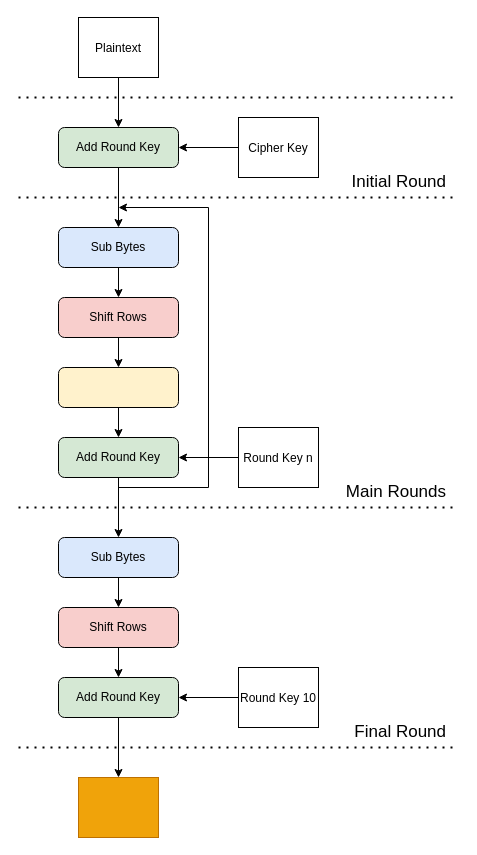
Some shapes in this 477 by 855 pixel diagram are drawn without their labels. The shapes that lost their labels are listed below. From the top down, each one's centre as x and y in pixels, then its label:
At [118,387]: "Mix Columns".
At [118,807]: "Ciphertext".
